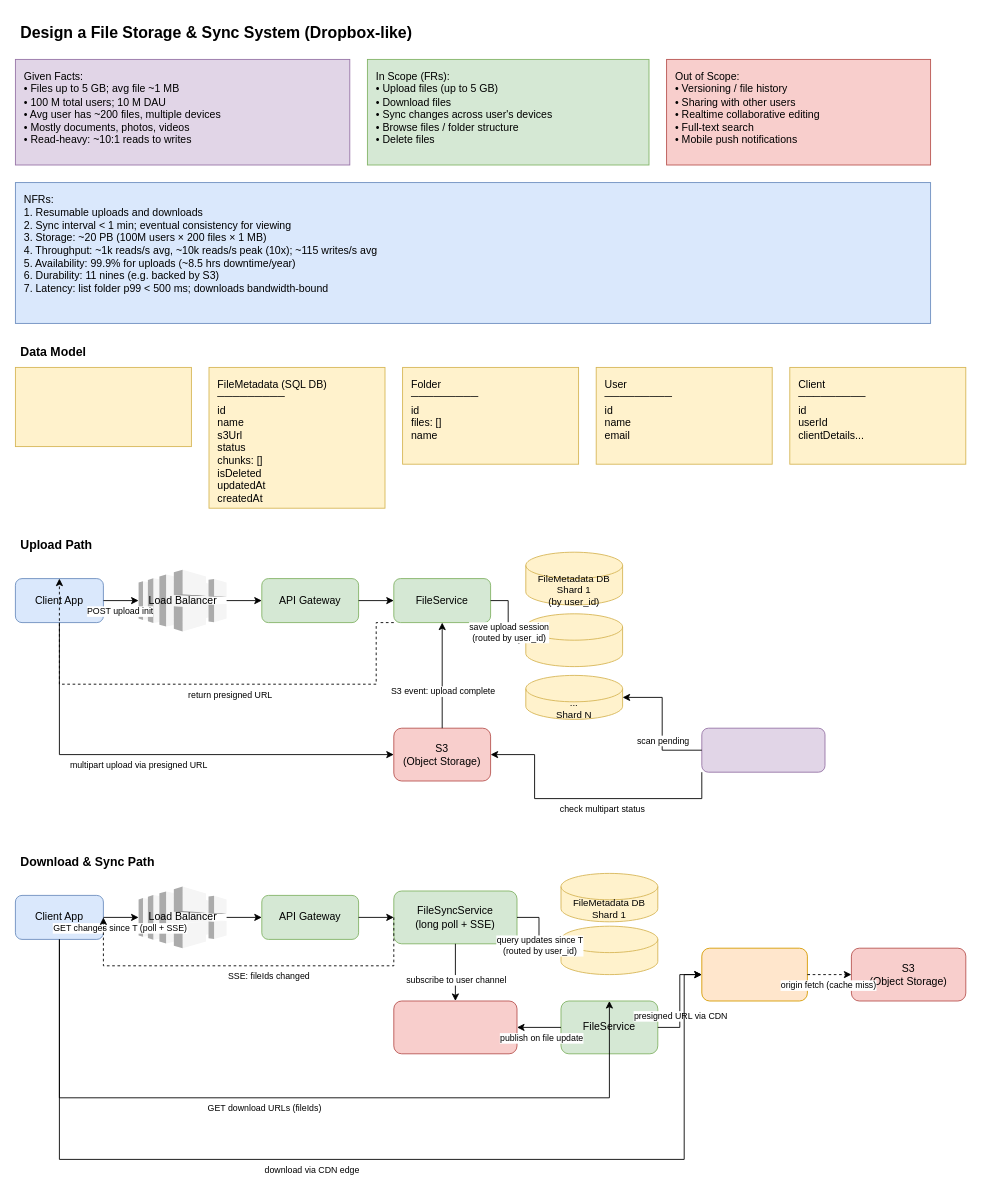
Some shapes in this 981 by 1191 pixel diagram are drawn without their labels. The shapes that lost their labels are listed below. From the top down, each one's box as (x1, y1, x2, y2) in pixels, then its label:
(15, 367, 191, 447): File ───────── fileBytes (stored in S3)
(525, 613, 623, 667): FileMetadata DB Shard 2 (by user_id)
(701, 727, 825, 772): Reconciliation Job
(560, 925, 658, 975): FileMetadata DB Shard 2
(701, 947, 807, 1001): CDN (edge cache)
(393, 1000, 517, 1054): Redis Pub/Sub (per-user channel)
